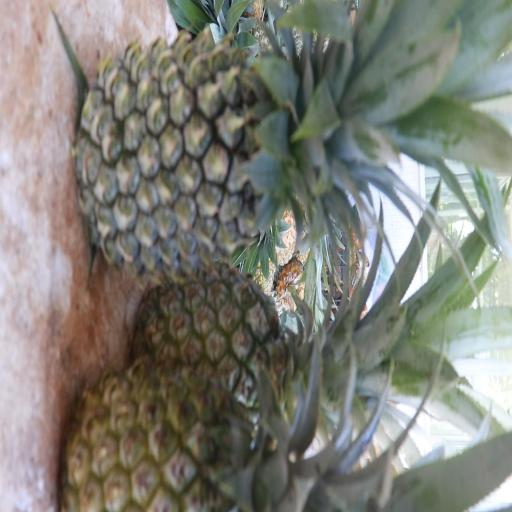------------------------------: (56, 352, 401, 510), (132, 259, 370, 439)
